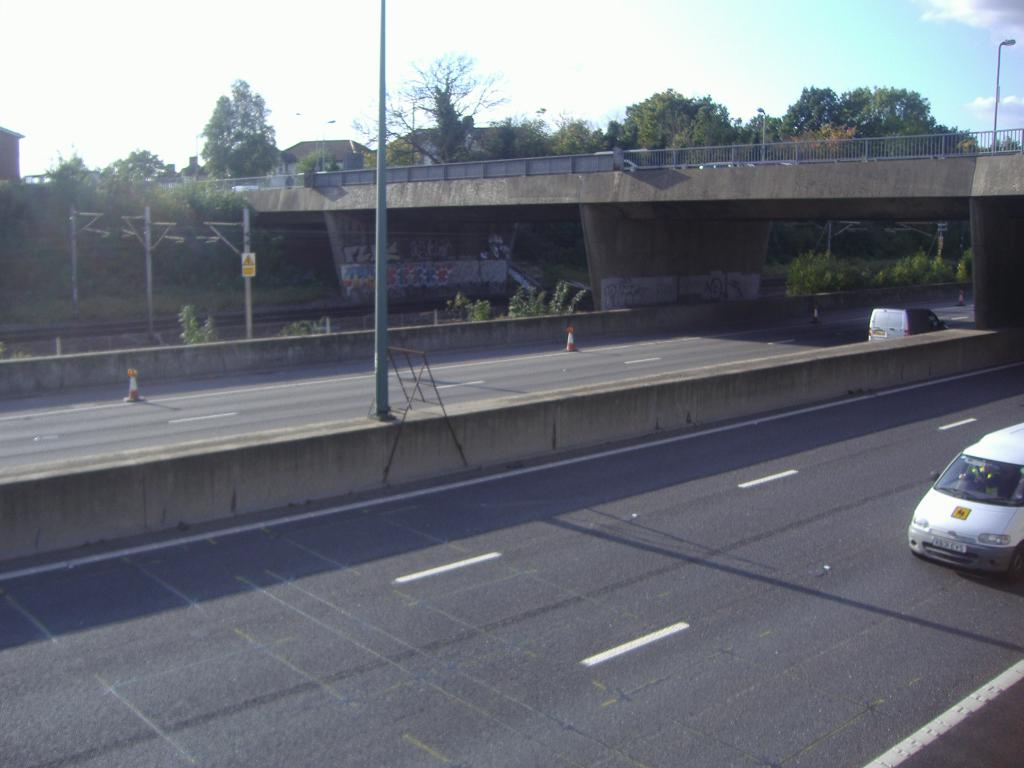Car: (904, 420, 1023, 576), (863, 302, 949, 341), (698, 162, 753, 168), (755, 161, 792, 165)
